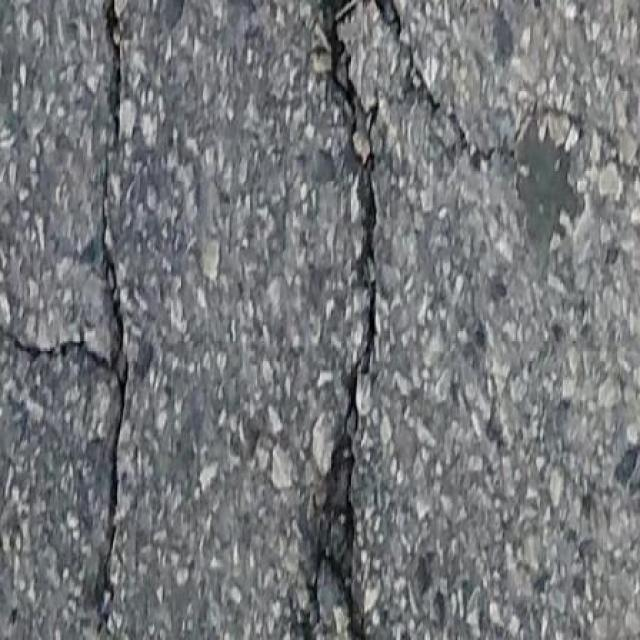Crack: (0, 199, 131, 639), (309, 0, 402, 613), (102, 0, 122, 117)
